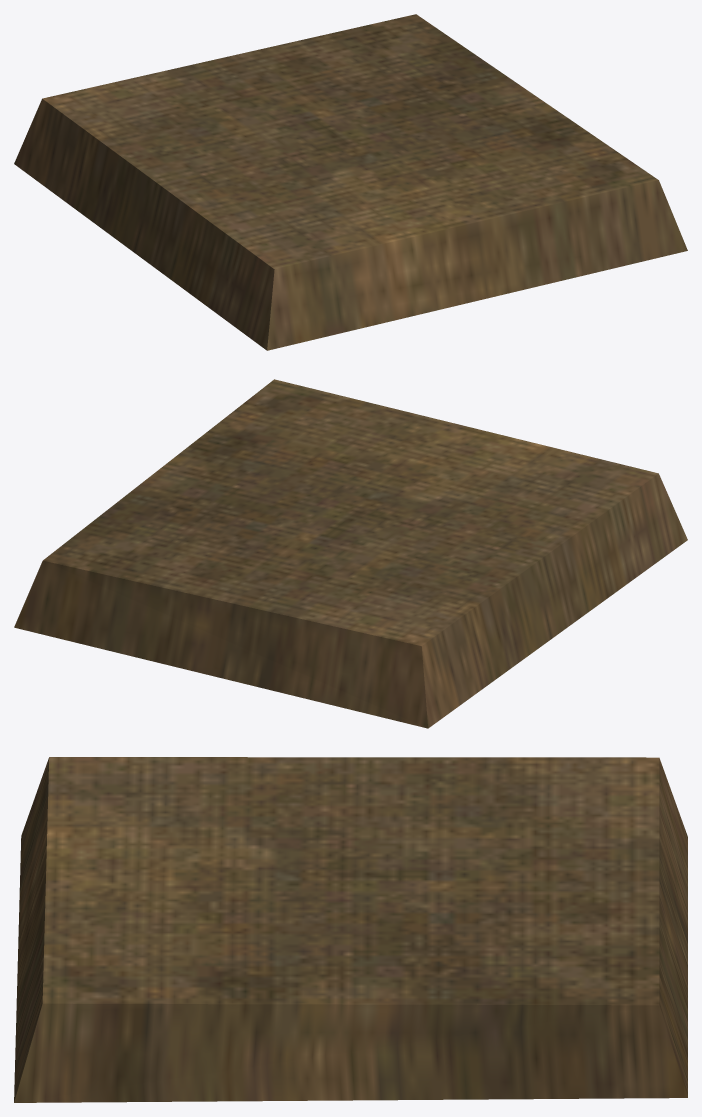
File: frn_all_throwpillow_med_s01_l2.fbx
3 views of the same model, one above another, from view 1: azimuth 30°, elevation 25°; view 2: azimuth 150°, elevation 25°; view 3: azimuth 270°, elevation 25° (orthographic). The views are drawn at different scales.
Parts seen in each view (by area): view 1: mesh_node; view 2: mesh_node; view 3: mesh_node.
Boxes of the visible parts, x1=… form: mesh_node: x1=14, y1=14, x2=687, y2=350; mesh_node: x1=14, y1=379, x2=687, y2=728; mesh_node: x1=14, y1=757, x2=687, y2=1102.
Bounding box in the file's own units: 1.15 × 0.1824 × 1.23.
